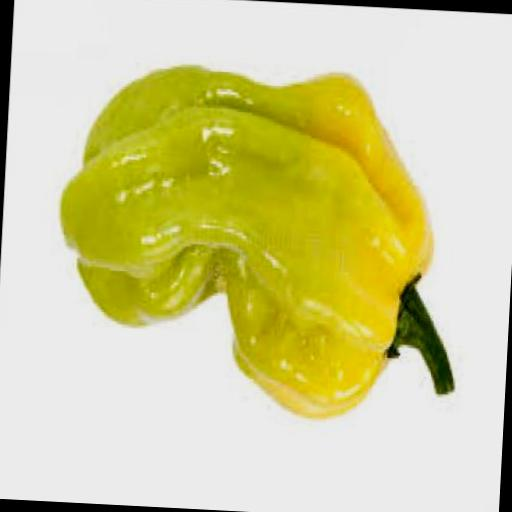biodegradable: (52, 60, 471, 433)
